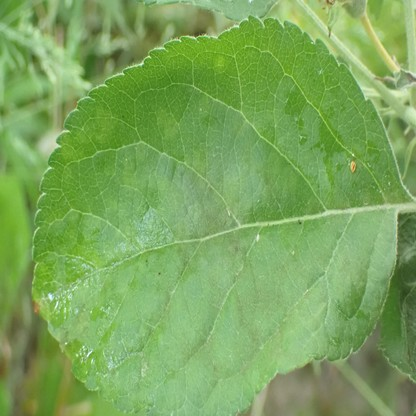frogeye_leaf_spot: (33, 301, 40, 313)
scab: (236, 285, 297, 361), (199, 214, 241, 259), (254, 155, 287, 199), (219, 177, 248, 223), (120, 168, 173, 193), (173, 222, 201, 268), (146, 289, 172, 338), (176, 333, 216, 364), (189, 151, 210, 188), (90, 109, 113, 142), (61, 131, 86, 161), (157, 107, 178, 139), (335, 258, 349, 289), (43, 216, 63, 234), (83, 213, 101, 232), (213, 54, 225, 75), (201, 95, 210, 117), (66, 211, 80, 221)
